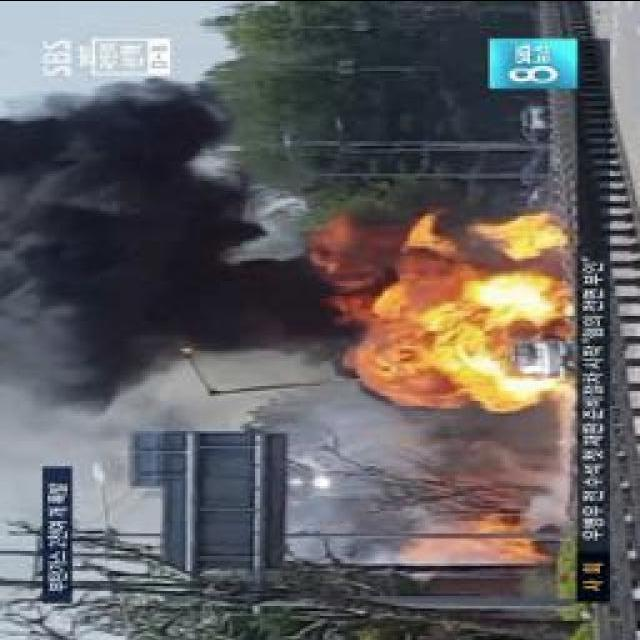Fire: (350, 218, 576, 412), (474, 514, 548, 564)
